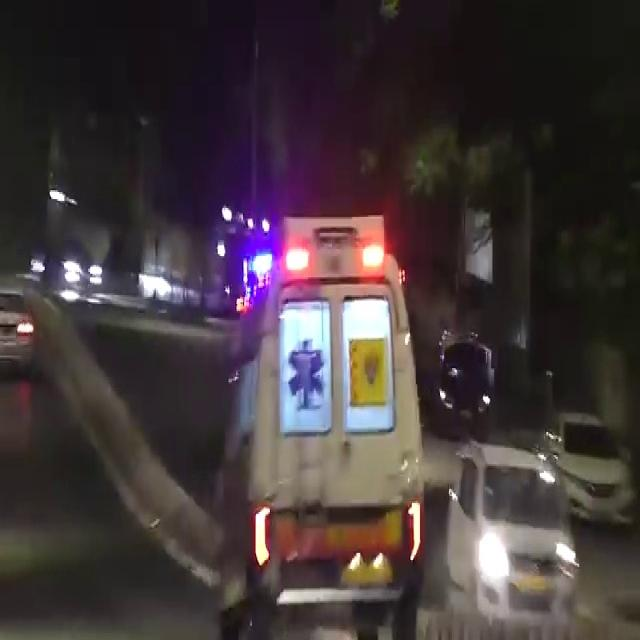ambulance: (225, 196, 420, 630)
